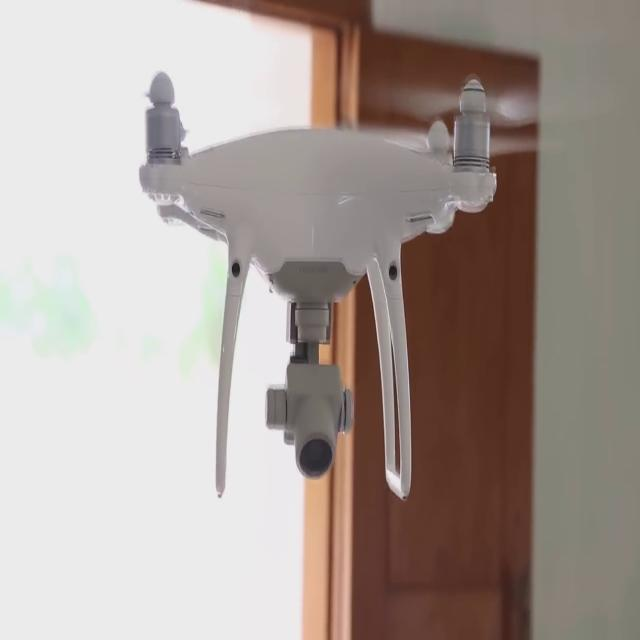drones: (101, 40, 538, 520)
